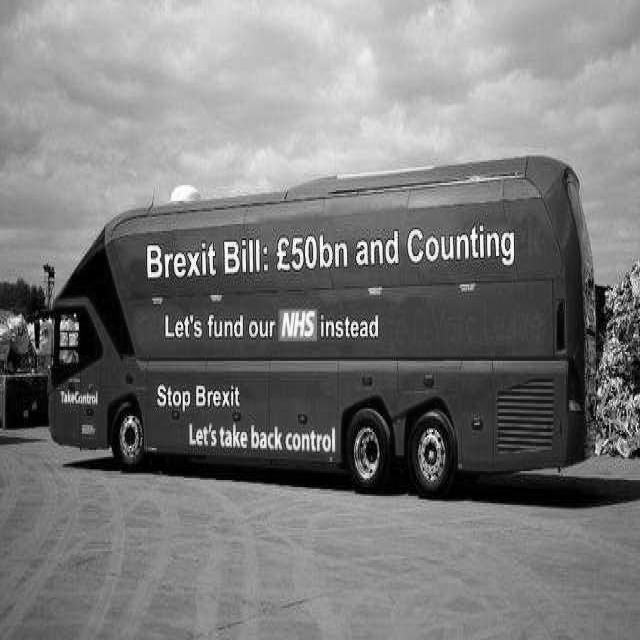Bus: (49, 156, 591, 494)
